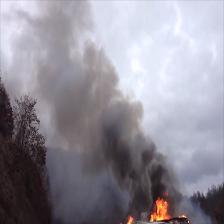fire: (148, 195, 169, 221)
smoke: (53, 81, 122, 143), (24, 19, 83, 73), (125, 146, 164, 189)
